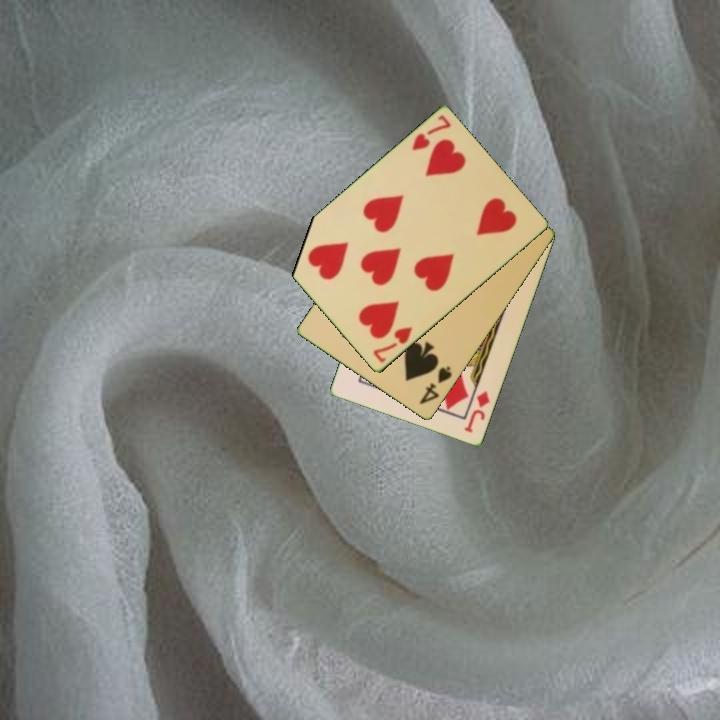4s: (416, 363, 455, 408)
7h: (369, 323, 416, 366), (408, 112, 454, 154)
Jd: (461, 388, 493, 436)
